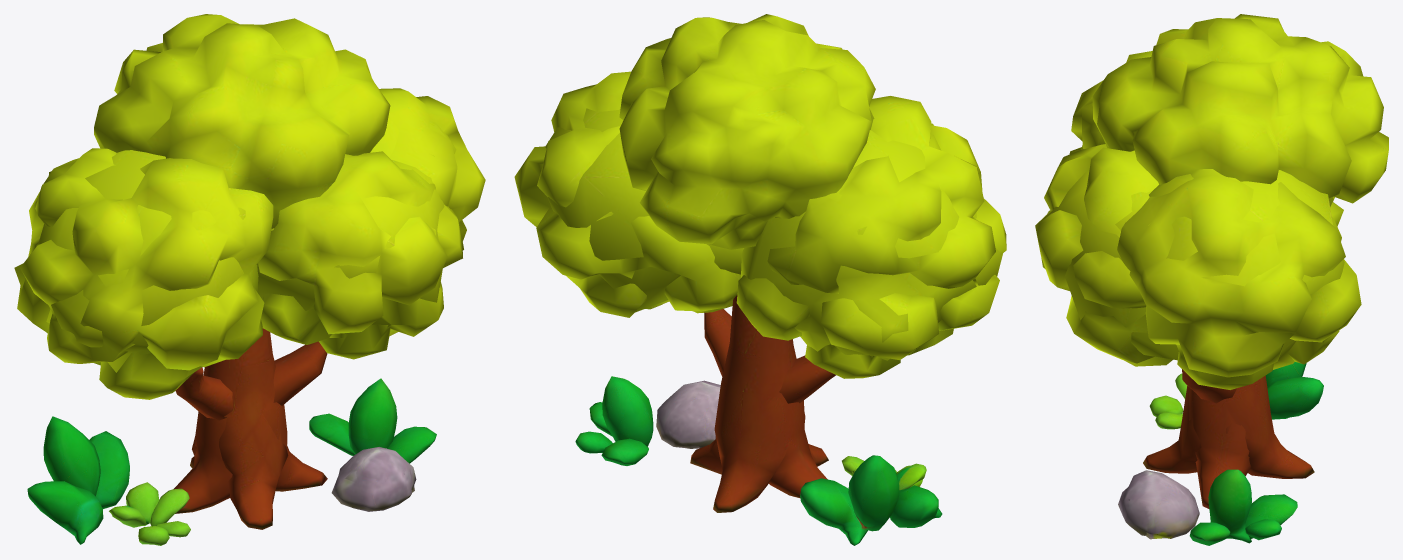
Rendered from r4c5_lime_yellow_tree.glb.
The picture shows the model from 3 angles, left to right: view 1: azimuth 30°, elevation 25°; view 2: azimuth 150°, elevation 25°; view 3: azimuth 270°, elevation 25°; orthographic projection. The views are drawn at different scales.
Size of the model in its own units: 1 by 1 by 0.709.
Materials: 1 (1 with a texture image).
